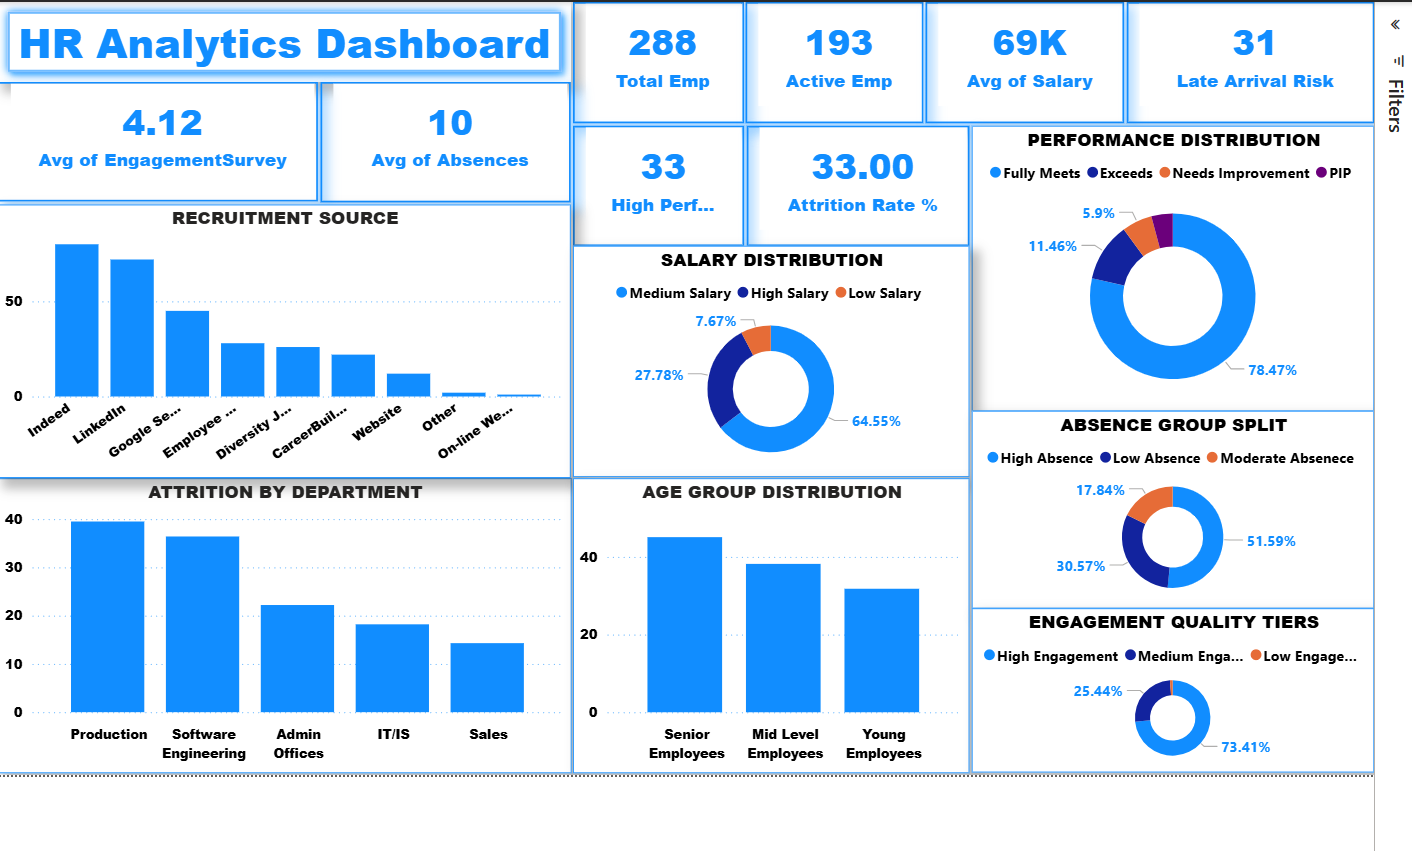

What the dashboard file says about the page in this screenshot:
{"tool":"powerbi","page":{"name":"Page 1","canvas":[1280,720],"ordinal":0},"visuals":[{"type":"shape","box":[0,0,532.8,74],"z":0},{"type":"cardVisual","fields":{"Data":["CountNonNull(HR_Analytics_Final.EmpStatusID)"]},"box":[535,0,158.9,112.8],"z":1},{"type":"cardVisual","fields":{"Data":["HR_Analytics_Final.Active Employees"]},"box":[695.8,0,165.2,112.8],"z":2},{"type":"cardVisual","fields":{"Data":["Avg(HR_Analytics_Final.Salary)"]},"box":[862.8,0,185,112.8],"z":3},{"type":"cardVisual","fields":{"Data":["Avg(HR_Analytics_Final.Absences)"]},"box":[300,74.4,232.5,111.9],"z":4},{"type":"cardVisual","fields":{"Data":["HR_Analytics_Final.Late Arrival Risk"]},"box":[1050,0,230,112.8],"z":5},{"type":"cardVisual","fields":{"Data":["HR_Analytics_Final.High Performers"]},"box":[535,114.8,159,112],"z":6},{"type":"cardVisual","fields":{"Data":["Avg(HR_Analytics_Final.EngagementSurvey)"]},"box":[0,74.6,297.7,111.5],"z":7},{"type":"cardVisual","fields":{"Data":["HR_Analytics_Final.Attrition Rate %"]},"box":[696,115,207.5,112],"z":8},{"type":"clusteredColumnChart","title":"ATTRITION  BY DEPARTMENT ","fields":{"Y":["HR_Analytics_Final.Attrition Rate %"],"Category":["HR_Analytics_Final.Department"]},"box":[0,443.3,533.3,274],"z":9},{"type":"donutChart","title":"PERFORMANCE DISTRIBUTION","fields":{"Category":["HR_Analytics_Final.PerformanceScore"],"Y":["CountNonNull(HR_Analytics_Final.Performance_Group)"]},"box":[905.2,114.8,374.8,265.8],"z":10},{"type":"clusteredColumnChart","title":"RECRUITMENT SOURCE","fields":{"Category":["HR_Analytics_Final.RecruitmentSource"],"Y":["CountNonNull(HR_Analytics_Final.PerfScoreID)"]},"box":[0,188,532.8,254],"z":11},{"type":"donutChart","title":" SALARY DISTRIBUTION","fields":{"Category":["HR_Analytics_Final.Salary_Band"],"Y":["Sum(HR_Analytics_Final.Salary)"]},"box":[535,226.9,368.8,215],"z":12},{"type":"clusteredColumnChart","title":"AGE GROUP DISTRIBUTION","fields":{"Category":["HR_Analytics_Final.Age_Group"],"Y":["Avg(HR_Analytics_Final.Age)"]},"box":[535.2,443.3,368.9,274.1],"z":13},{"type":"donutChart","title":"ABSENCE GROUP SPLIT","fields":{"Category":["HR_Analytics_Final.Group_Absence"],"Y":["Sum(HR_Analytics_Final.Absences)"]},"box":[905.4,380.6,374.6,183.7],"z":14},{"type":"donutChart","title":"ENGAGEMENT QUALITY TIERS","fields":{"Y":["Sum(HR_Analytics_Final.EngagementSurvey)"],"Category":["HR_Analytics_Final.Engagement_Bands"]},"box":[905.4,564.4,374.6,152.5],"z":15}]}

Visuals, with their boxes in screenshot pixels (x1, y1, x2, y2):
shape: {"left": 0, "top": 0, "right": 565, "bottom": 77}
cardVisual - CountNonNull(HR_Analytics_Final.EmpStatusID): {"left": 567, "top": 0, "right": 740, "bottom": 119}
cardVisual - HR_Analytics_Final.Active Employees: {"left": 742, "top": 0, "right": 922, "bottom": 119}
cardVisual - Avg(HR_Analytics_Final.Salary): {"left": 924, "top": 0, "right": 1125, "bottom": 119}
cardVisual - Avg(HR_Analytics_Final.Absences): {"left": 312, "top": 77, "right": 565, "bottom": 199}
cardVisual - HR_Analytics_Final.Late Arrival Risk: {"left": 1128, "top": 0, "right": 1378, "bottom": 119}
cardVisual - HR_Analytics_Final.High Performers: {"left": 567, "top": 121, "right": 740, "bottom": 243}
cardVisual - Avg(HR_Analytics_Final.EngagementSurvey): {"left": 0, "top": 77, "right": 309, "bottom": 199}
cardVisual - HR_Analytics_Final.Attrition Rate %: {"left": 742, "top": 121, "right": 968, "bottom": 243}
"ATTRITION  BY DEPARTMENT " clusteredColumnChart: {"left": 0, "top": 479, "right": 565, "bottom": 777}
"PERFORMANCE DISTRIBUTION" donutChart: {"left": 970, "top": 121, "right": 1378, "bottom": 410}
"RECRUITMENT SOURCE" clusteredColumnChart: {"left": 0, "top": 201, "right": 565, "bottom": 477}
" SALARY DISTRIBUTION" donutChart: {"left": 567, "top": 243, "right": 969, "bottom": 477}
"AGE GROUP DISTRIBUTION" clusteredColumnChart: {"left": 568, "top": 479, "right": 969, "bottom": 777}
"ABSENCE GROUP SPLIT" donutChart: {"left": 970, "top": 410, "right": 1378, "bottom": 610}
"ENGAGEMENT QUALITY TIERS" donutChart: {"left": 970, "top": 610, "right": 1378, "bottom": 776}
